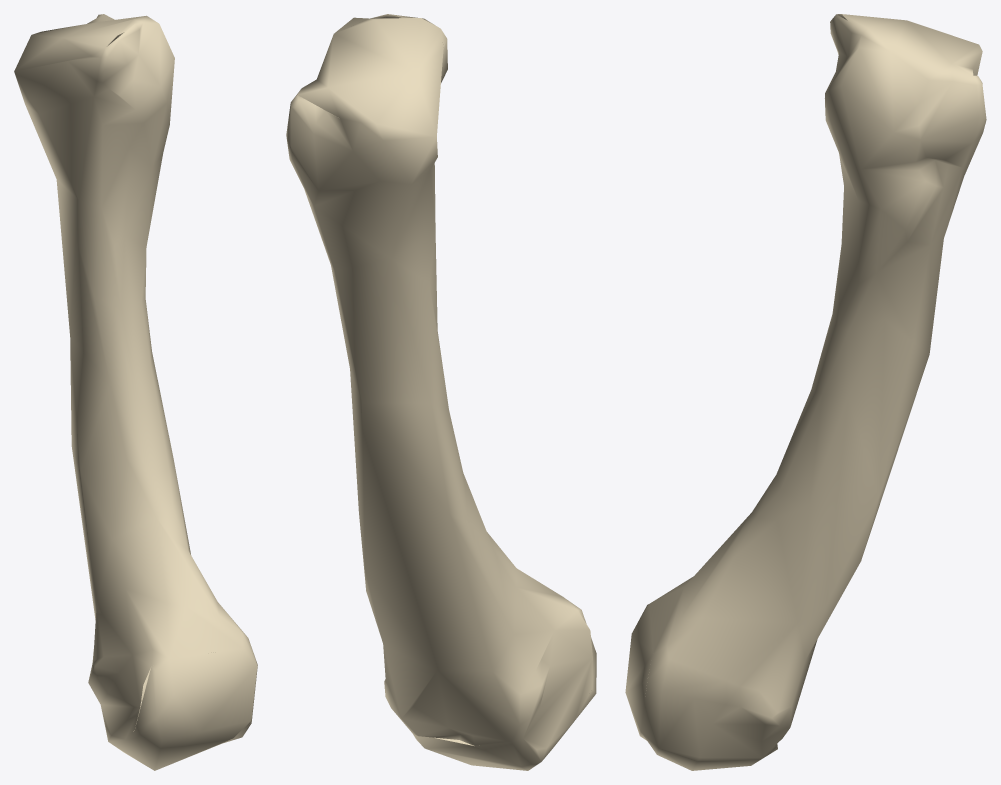
The model's file is esqueleto-fourth-metacarpal-bone-l.glb.
The picture shows the model from 3 angles, left to right: view 1: azimuth 30°, elevation 25°; view 2: azimuth 150°, elevation 25°; view 3: azimuth 270°, elevation 25°; orthographic projection. The views are drawn at different scales.
Parts seen in each view (by area): view 1: Fourth metacarpal bone.l; view 2: Fourth metacarpal bone.l; view 3: Fourth metacarpal bone.l.
Part boxes in pixels (x1,y1,x2,y2): Fourth metacarpal bone.l: (14, 14, 257, 770); Fourth metacarpal bone.l: (286, 14, 596, 770); Fourth metacarpal bone.l: (625, 14, 986, 770).
Size of the model in its own units: 0.0131 by 0.0621 by 0.0271.
